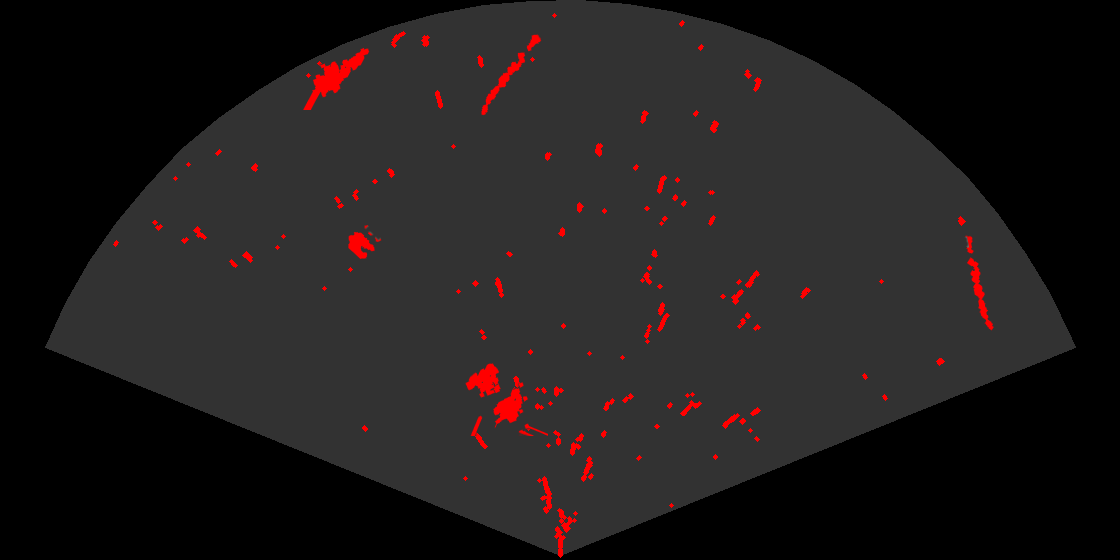ball: (347, 223, 383, 261)
cage: (464, 362, 548, 436)
chain: (480, 33, 543, 117), (964, 233, 995, 332)
frogman: (302, 46, 371, 110)
